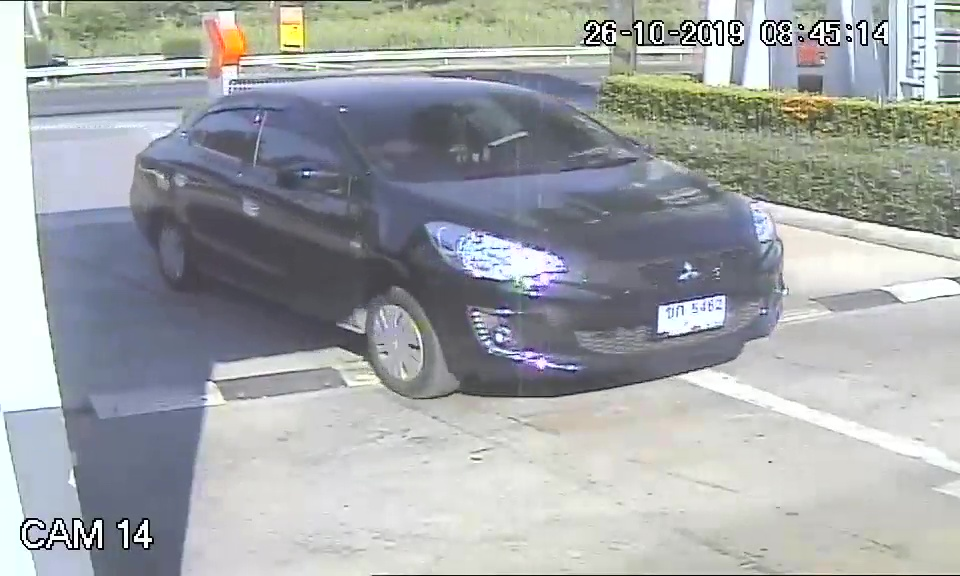sedan: (128, 70, 792, 403)
